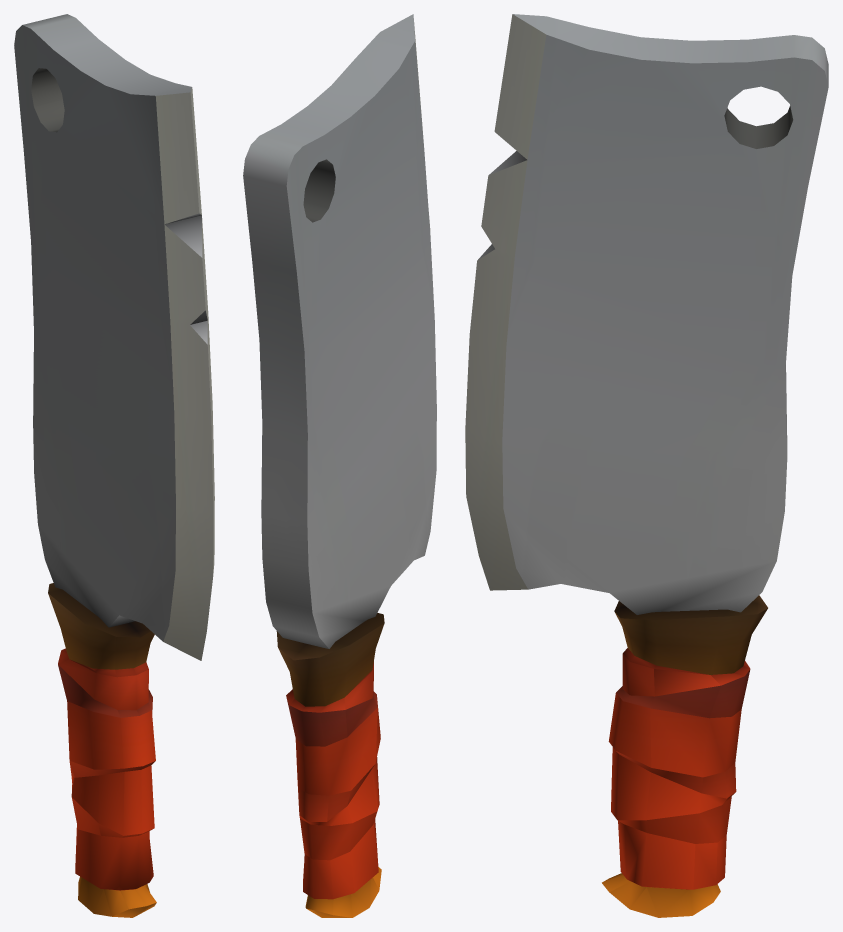
The model's file is ColdArms_Chopper_Knife.gltf.
3 views of the same model, side by side, from view 1: azimuth 30°, elevation 25°; view 2: azimuth 150°, elevation 25°; view 3: azimuth 270°, elevation 25° (orthographic). The views are drawn at different scales.
Parts seen in each view (by area): view 1: ColdArms_Chopper_Knife; view 2: ColdArms_Chopper_Knife; view 3: ColdArms_Chopper_Knife.
Part boxes in pixels (<box>): ColdArms_Chopper_Knife: <box>14,14,214,917</box>; ColdArms_Chopper_Knife: <box>243,14,436,917</box>; ColdArms_Chopper_Knife: <box>465,14,828,917</box>.
Bounding box in the file's own units: 0.0825 × 0.9117 × 0.3339.
Materials: 2 (2 with a texture image).
